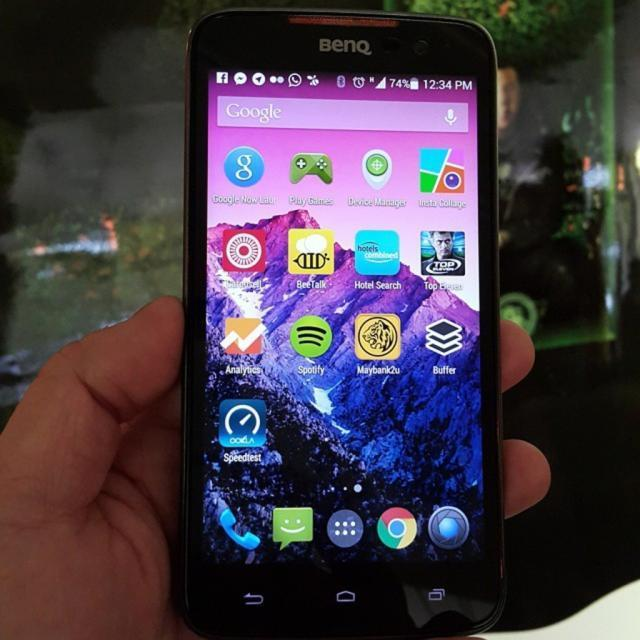Phone: (177, 8, 506, 638)
